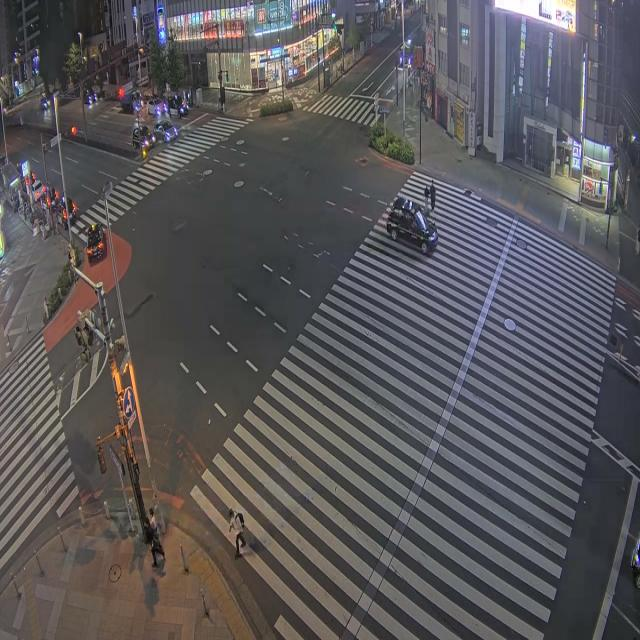car: (387, 200, 437, 254), (54, 192, 78, 227), (86, 224, 105, 262), (391, 196, 427, 216), (132, 126, 156, 149), (153, 120, 177, 142), (167, 96, 188, 118), (147, 98, 167, 117), (55, 203, 67, 228), (33, 180, 46, 201), (83, 89, 96, 105), (40, 95, 50, 111)
